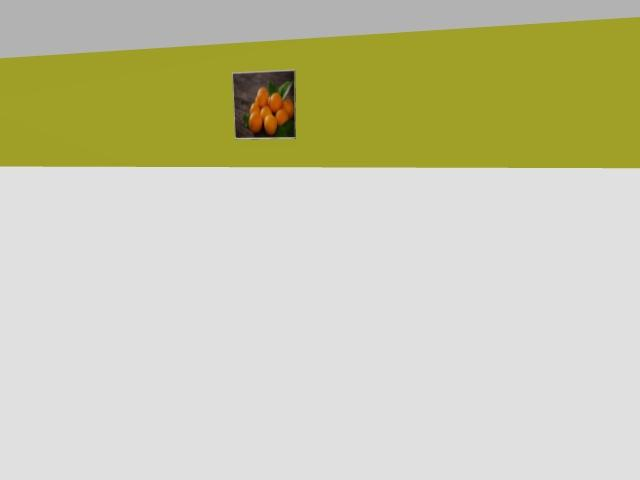orange: (264, 112, 277, 135), (249, 111, 262, 133), (269, 92, 281, 112), (275, 107, 288, 125), (256, 87, 267, 107), (283, 98, 293, 117), (260, 105, 271, 118), (249, 101, 259, 113)
